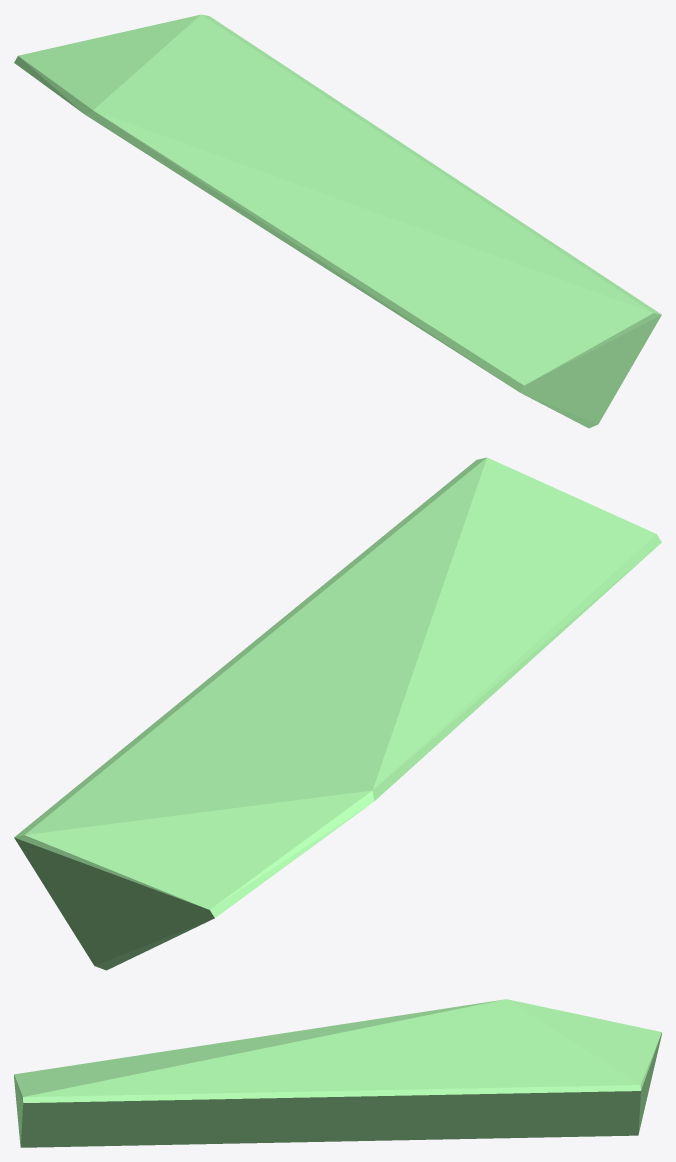
The model's file is dvkr_robot_Lp2_respondable_PSM1_coll_1.dae.
The picture shows the model from 3 angles, top to bottom: view 1: azimuth 30°, elevation 25°; view 2: azimuth 150°, elevation 25°; view 3: azimuth 270°, elevation 25°; orthographic projection. The views are drawn at different scales.
Visible parts, largest first — view 1: Node_0000023514CDA040; view 2: Node_0000023514CDA040; view 3: Node_0000023514CDA040.
Boxes of the visible parts, bbox=[...] form: Node_0000023514CDA040: bbox=[14, 14, 661, 428]; Node_0000023514CDA040: bbox=[14, 457, 661, 970]; Node_0000023514CDA040: bbox=[14, 999, 661, 1147].
Bounding box in the file's own units: 0.0693 × 0.0316 × 0.2148.
